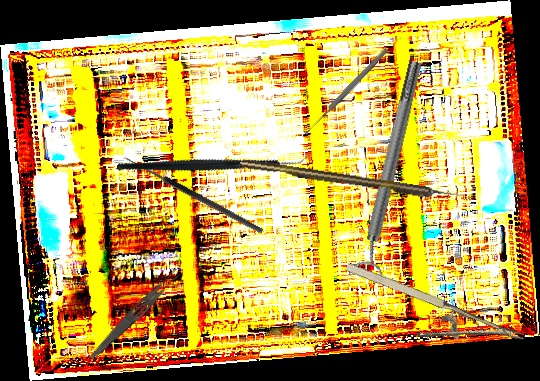Chopper: (115, 93, 314, 229)
Dressing Forceps: (87, 265, 184, 365)
Fixation Ring: (345, 57, 435, 285)
Hook Surgical: (118, 154, 265, 241), (239, 157, 466, 204)
Needle Holder: (332, 256, 526, 377)
Surgical Spoon: (302, 46, 390, 137)
